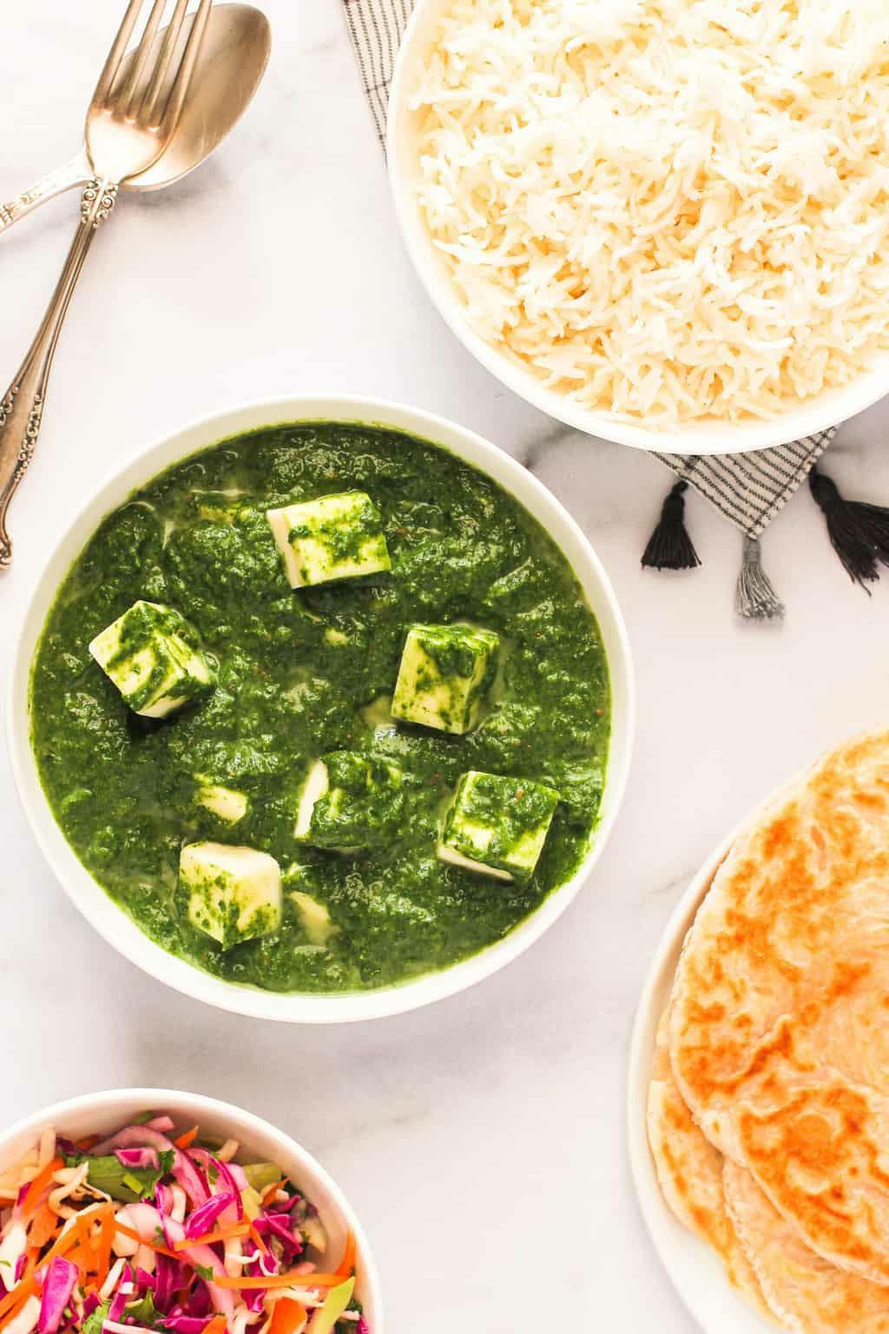PalakPaneer: (30, 420, 612, 986)
